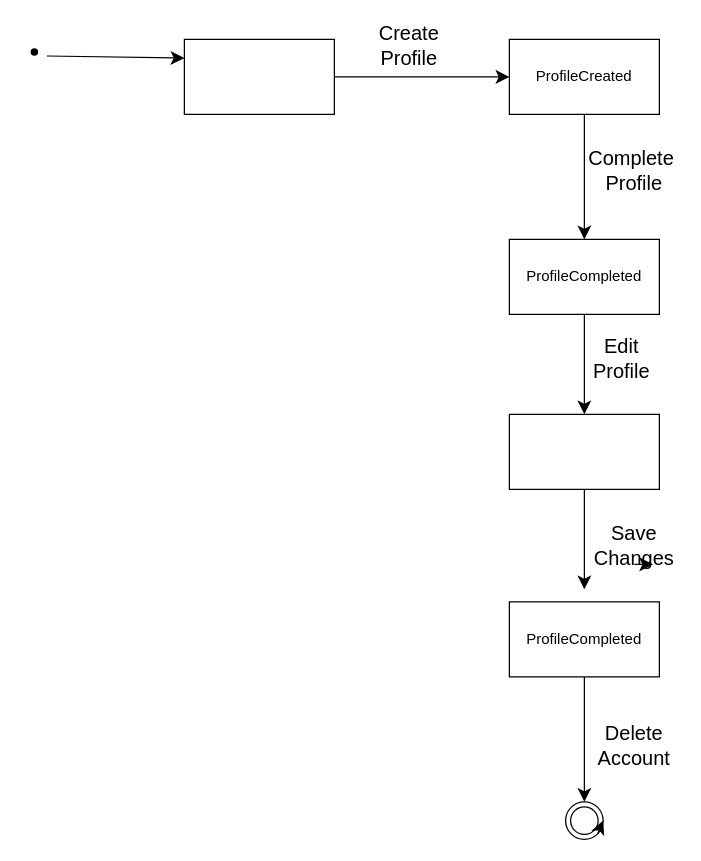
Image size: 701x861. Some labels were removed from this diagram. Here are the shapes that lost their labels. From the top down, the centre of each, then its label:
At point (258, 76): "ProfileNotExists".
At point (583, 451): "ProfileEditing".
